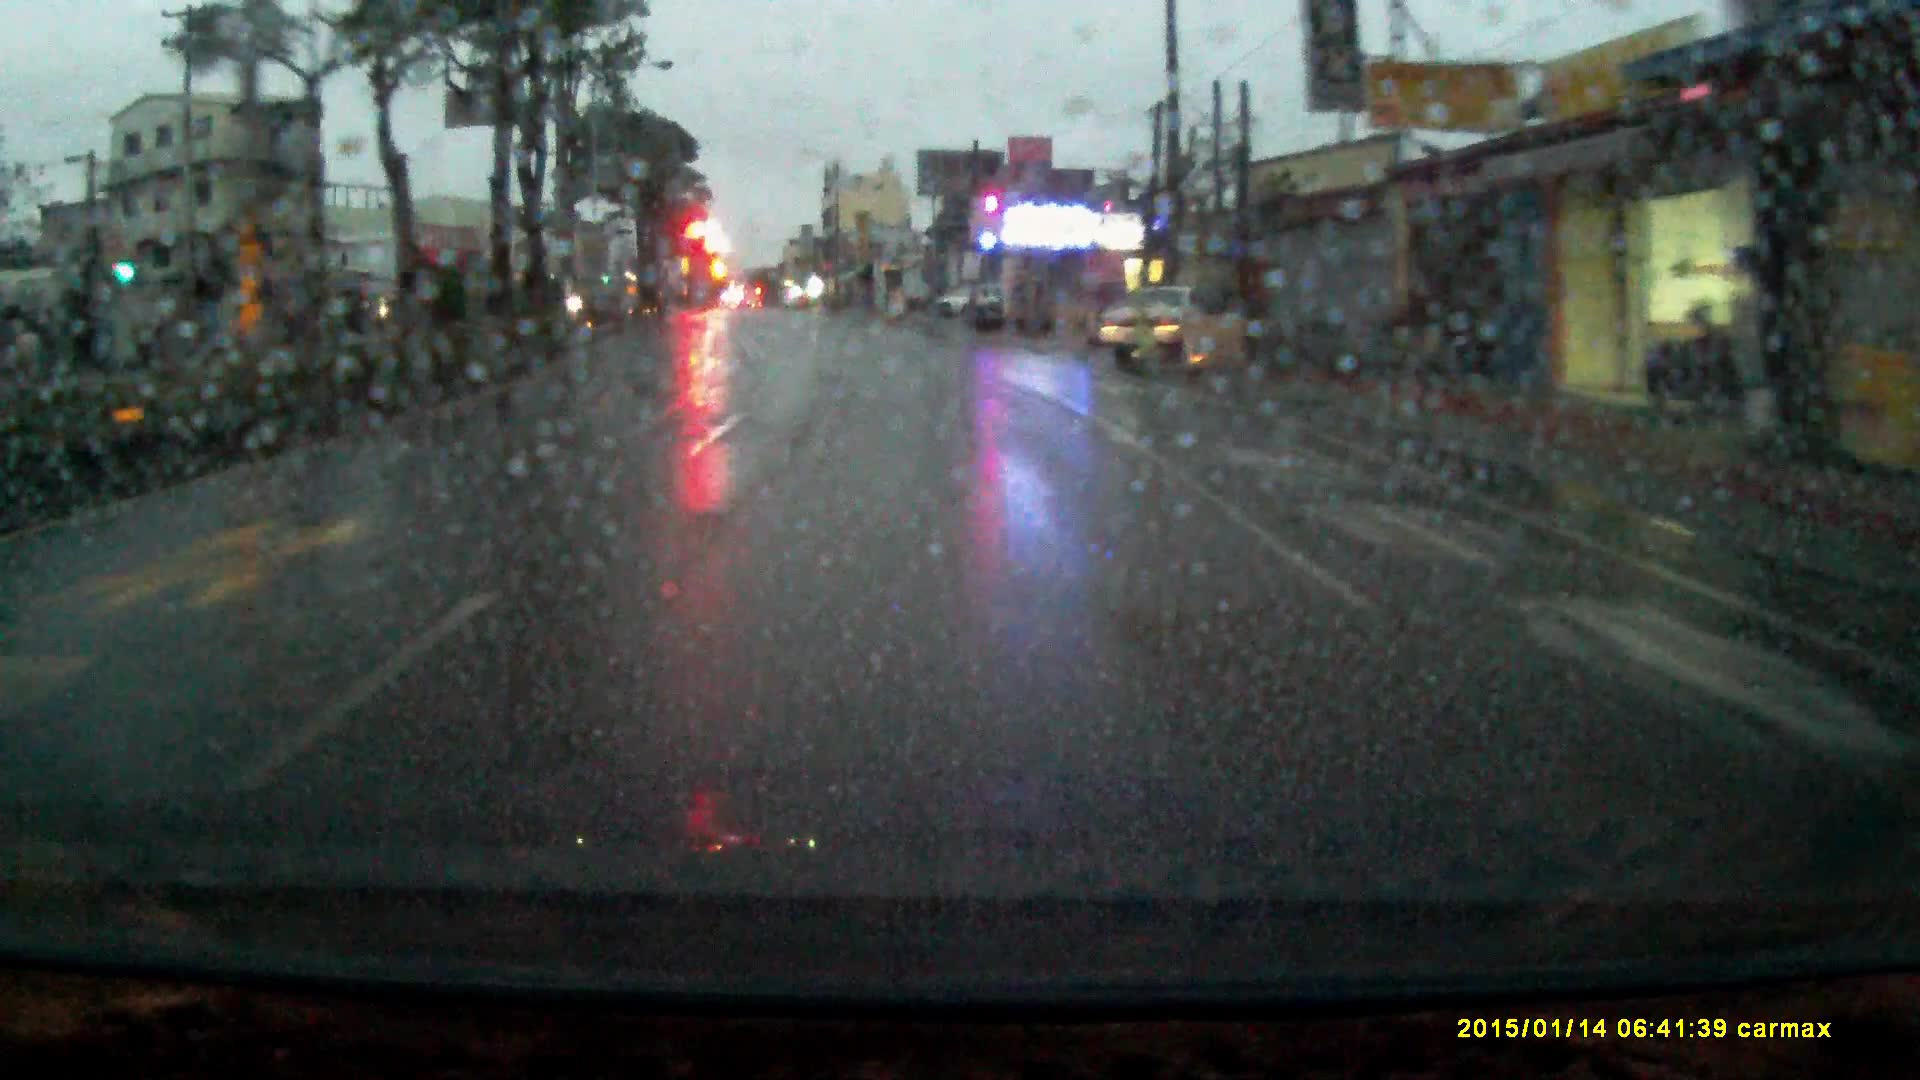vehicle: (1106, 291, 1247, 378), (934, 285, 1010, 323)
